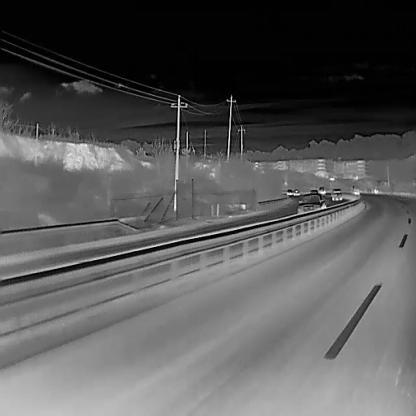car: (295, 193, 327, 215), (330, 187, 343, 201), (351, 184, 360, 195), (317, 185, 326, 195), (371, 185, 379, 194), (292, 188, 300, 196), (286, 188, 293, 196)
